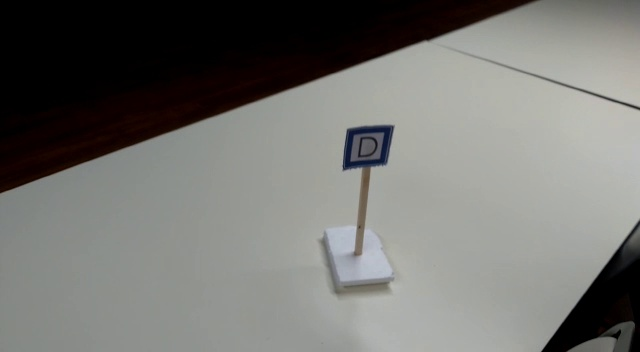durak: (340, 124, 395, 168)
